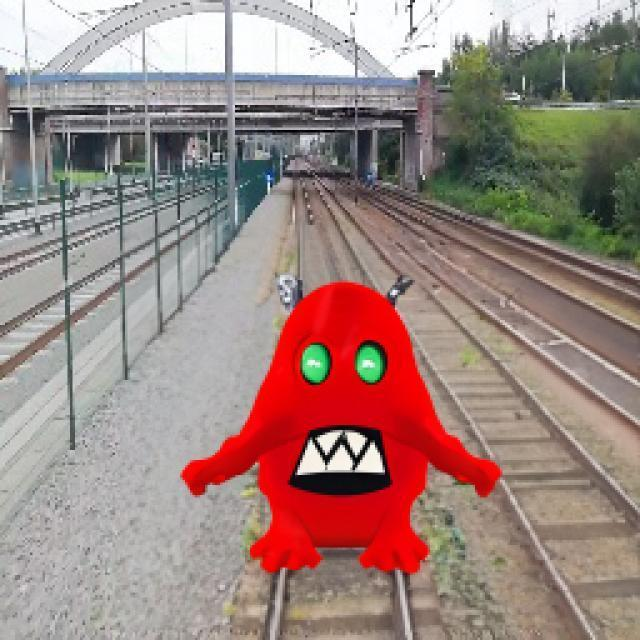rail: (220, 159, 458, 640)
